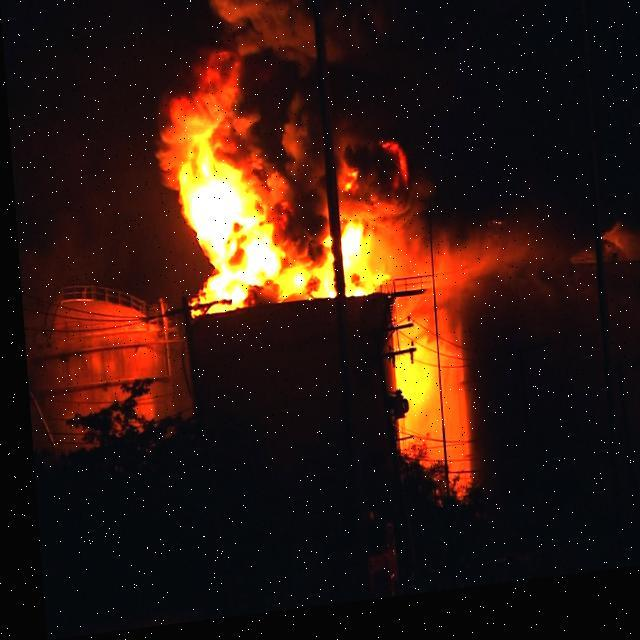Fire: (166, 148, 334, 318), (388, 309, 463, 512), (336, 223, 381, 301)
